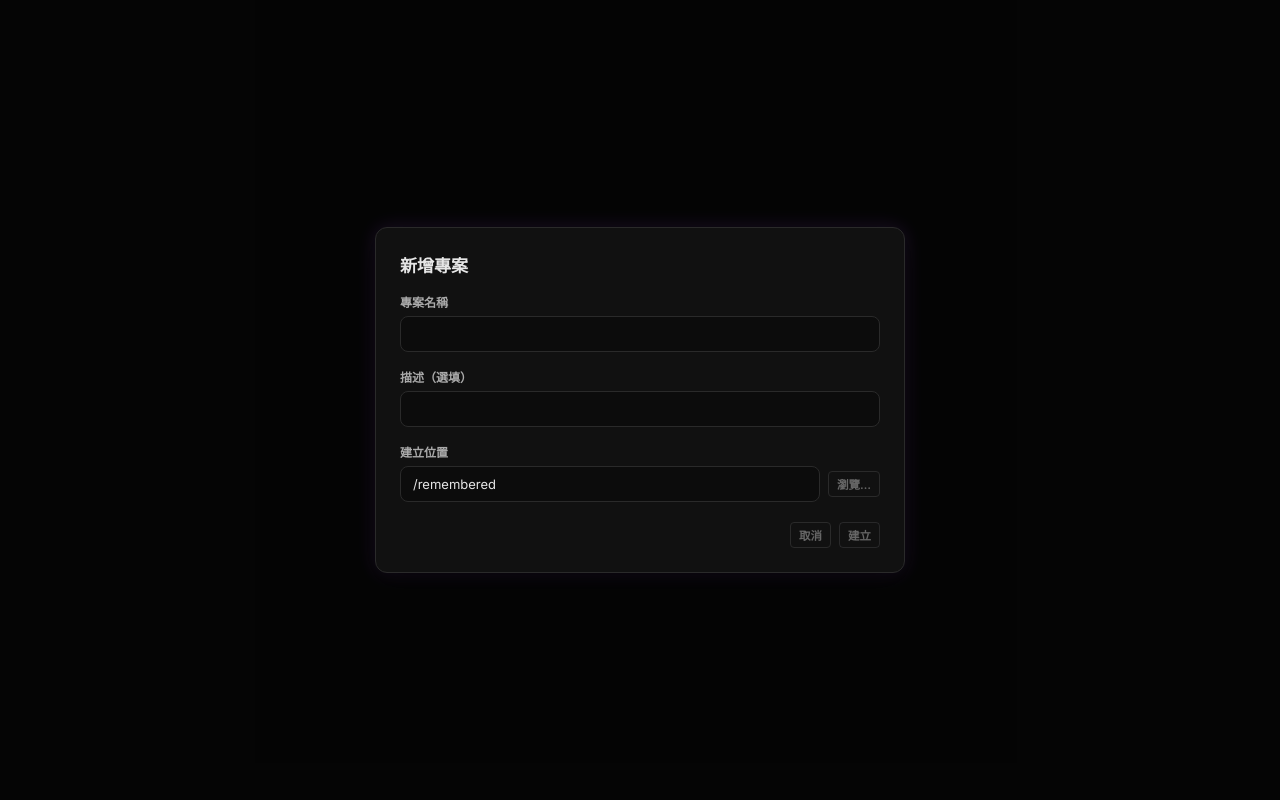
Test: ProjectCreateDialog › 記住上次的建立位置
Type "x" into the field with test id "project-create-name" at (640, 334), box 400,316 -> 880,352
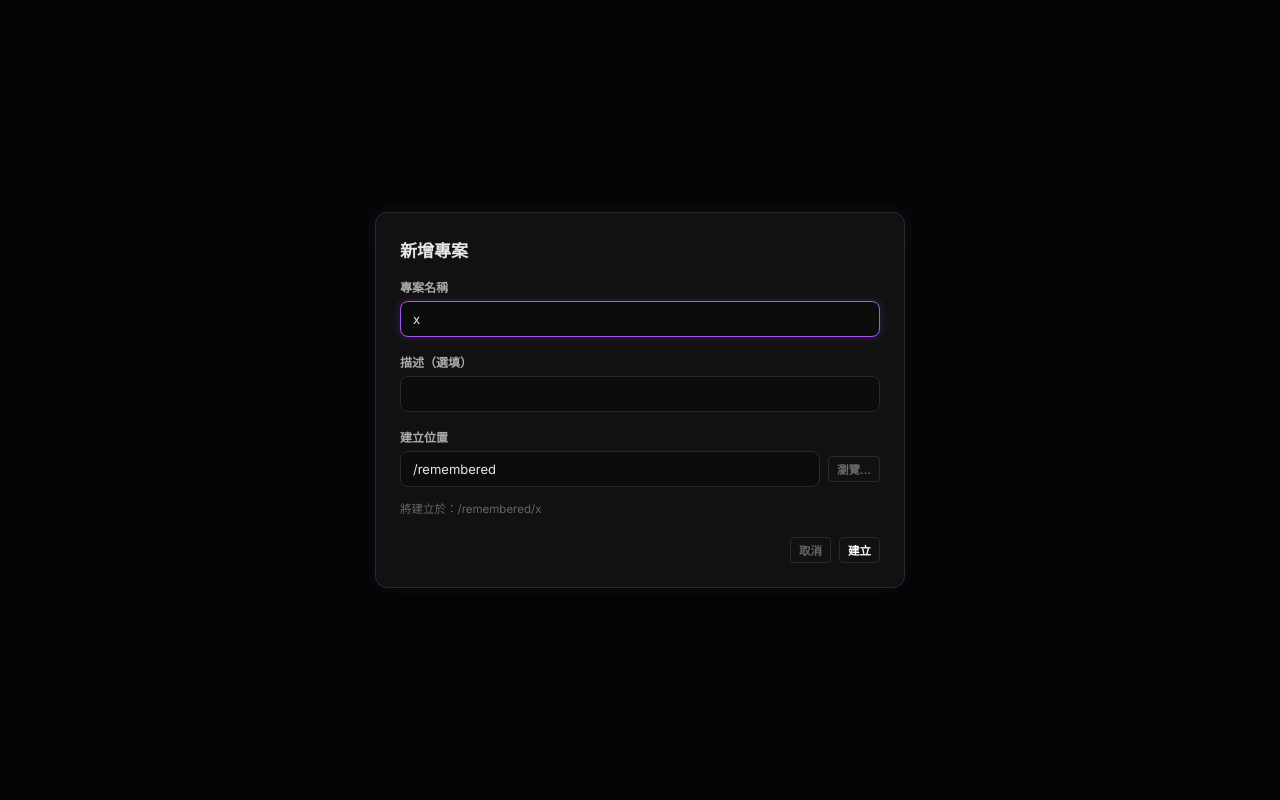
Now the button with test id "project-create-submit" is enabled, box 839,537 -> 880,563
